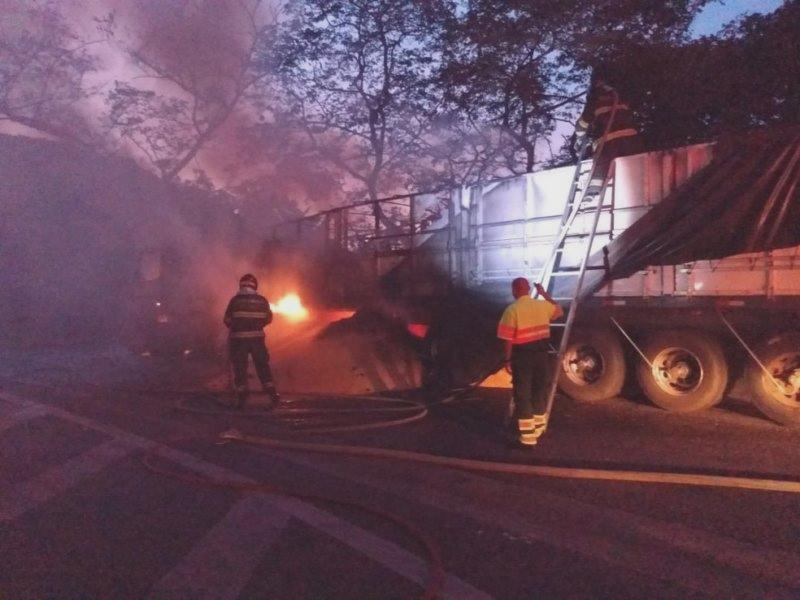Fire: (272, 292, 307, 323)
